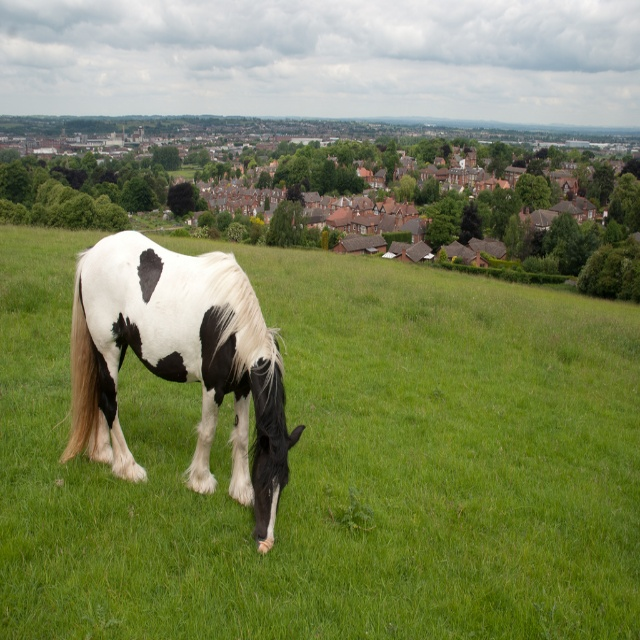Horse: (55, 229, 308, 556)
